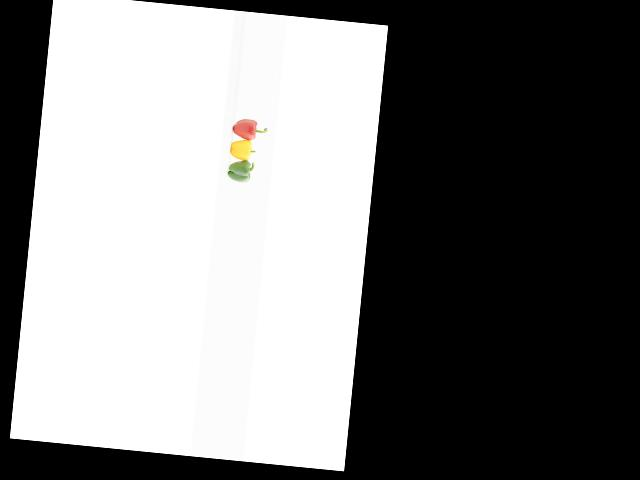bell_pepper: (228, 111, 271, 144)
